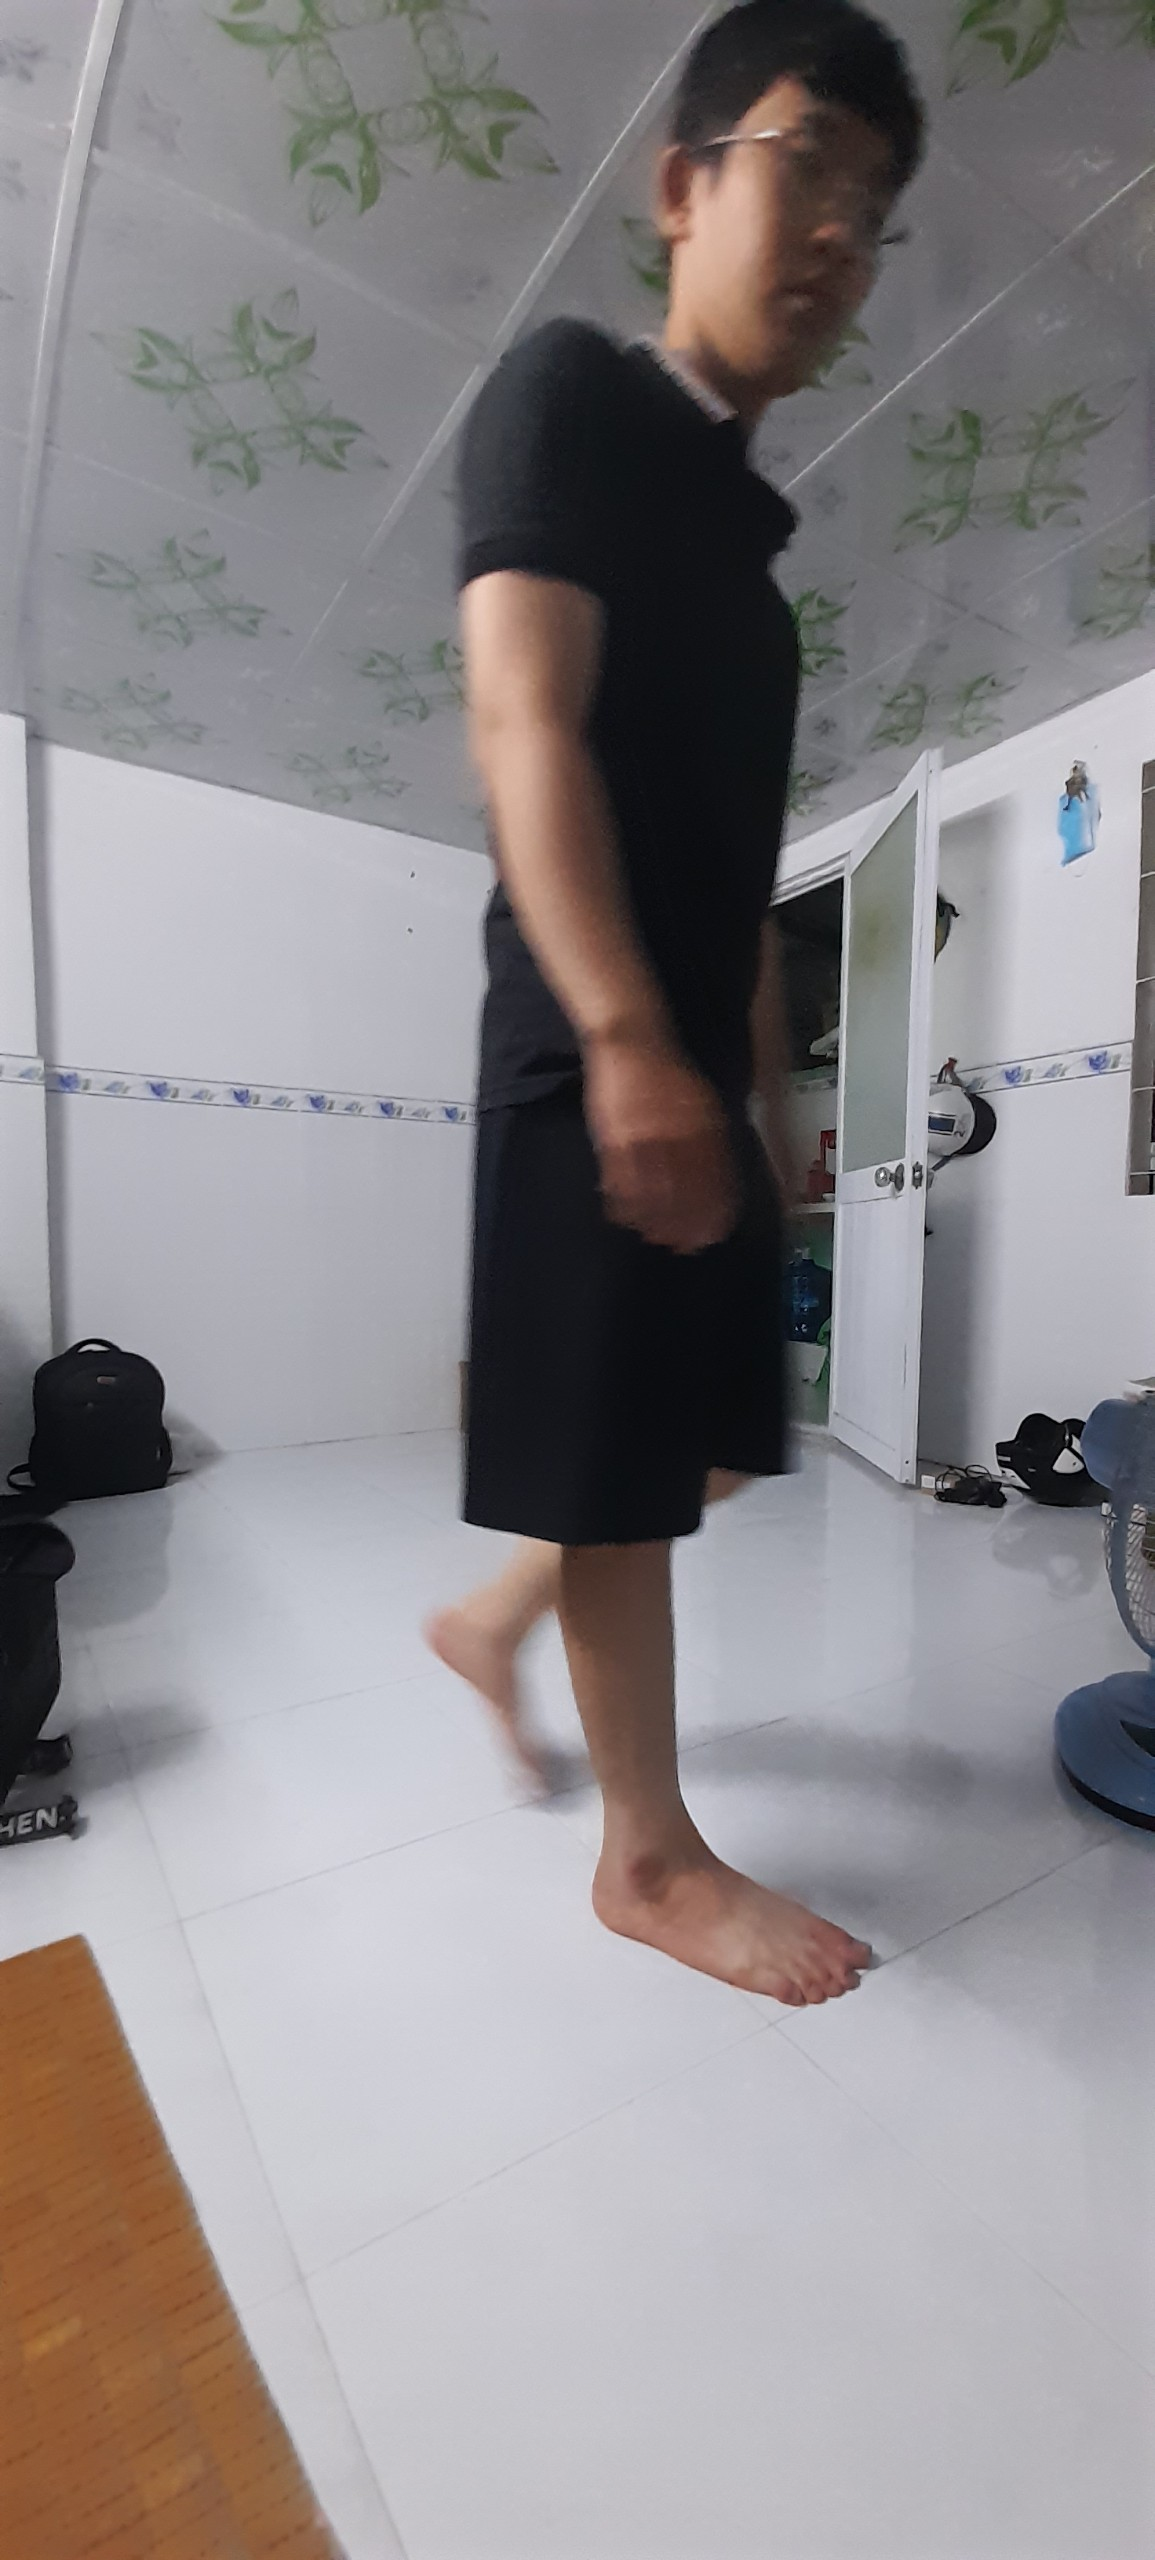person: (466, 3, 921, 2012)
